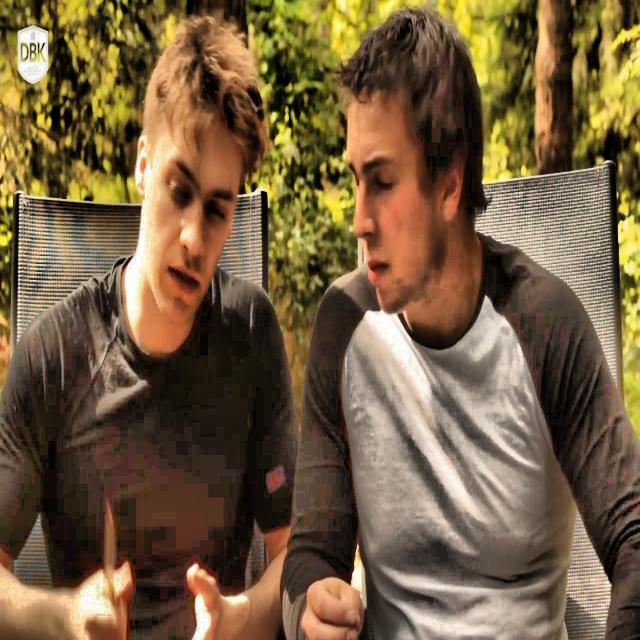knife: (102, 498, 114, 600)
